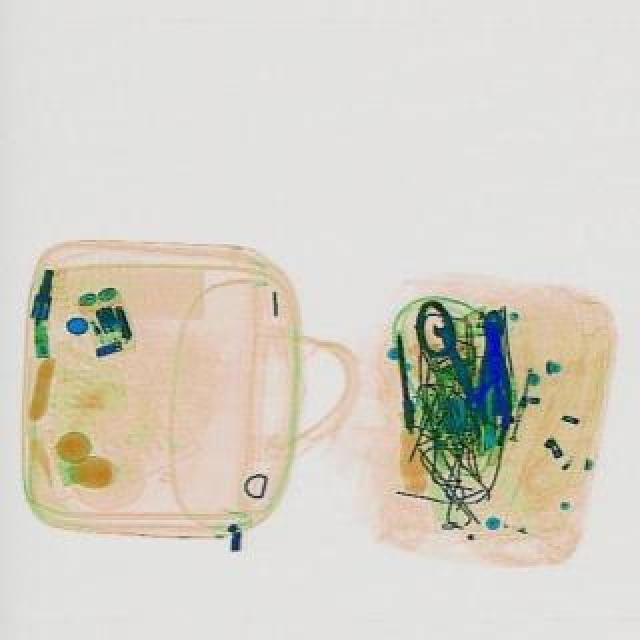scissors: (428, 318, 480, 412)
wrench: (472, 308, 508, 422)
